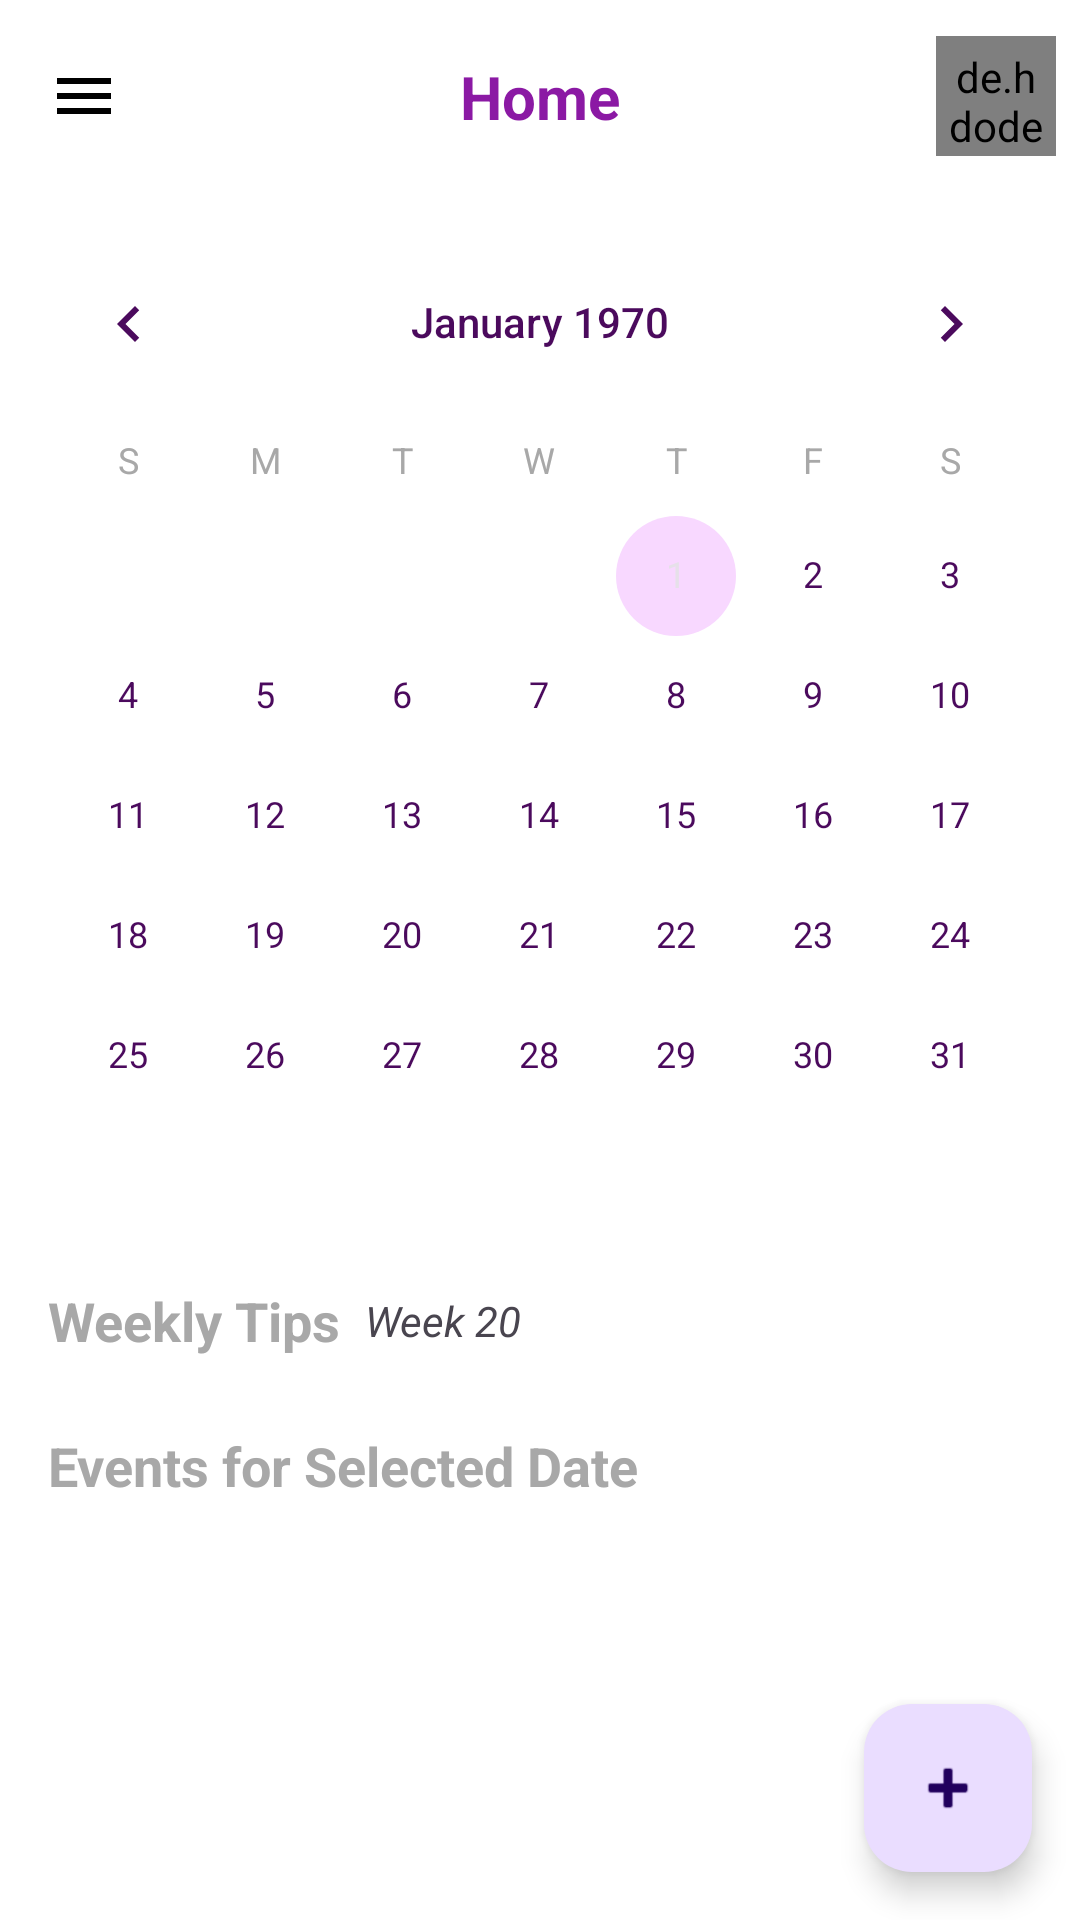

Point at icon controls on the screen. Image size 1080px×1920px, points as (x,y).
Add new event: (948,1788)
Menu: (84,96)
